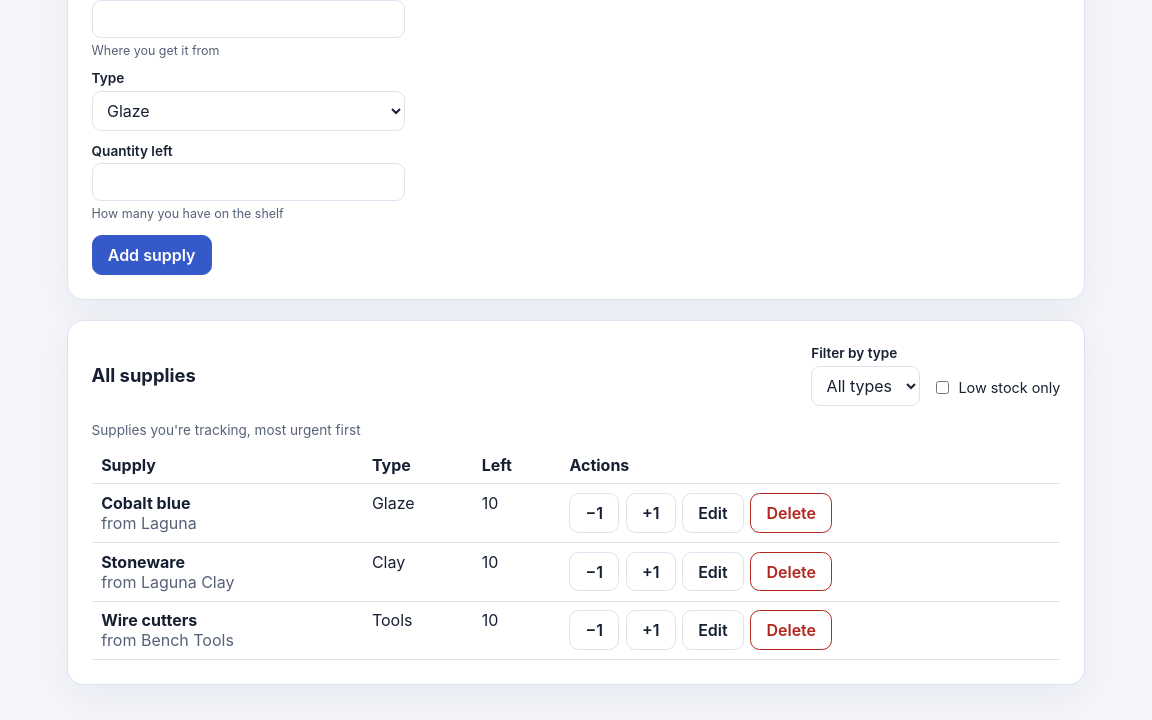
supply register › narrows the list to one type at a time
(page scrolled)
Select "Clay" in the dropdown labelled "Filter by type" at (866, 386), box top-left (811, 366), bottom-right (920, 406)
(page scrolled)
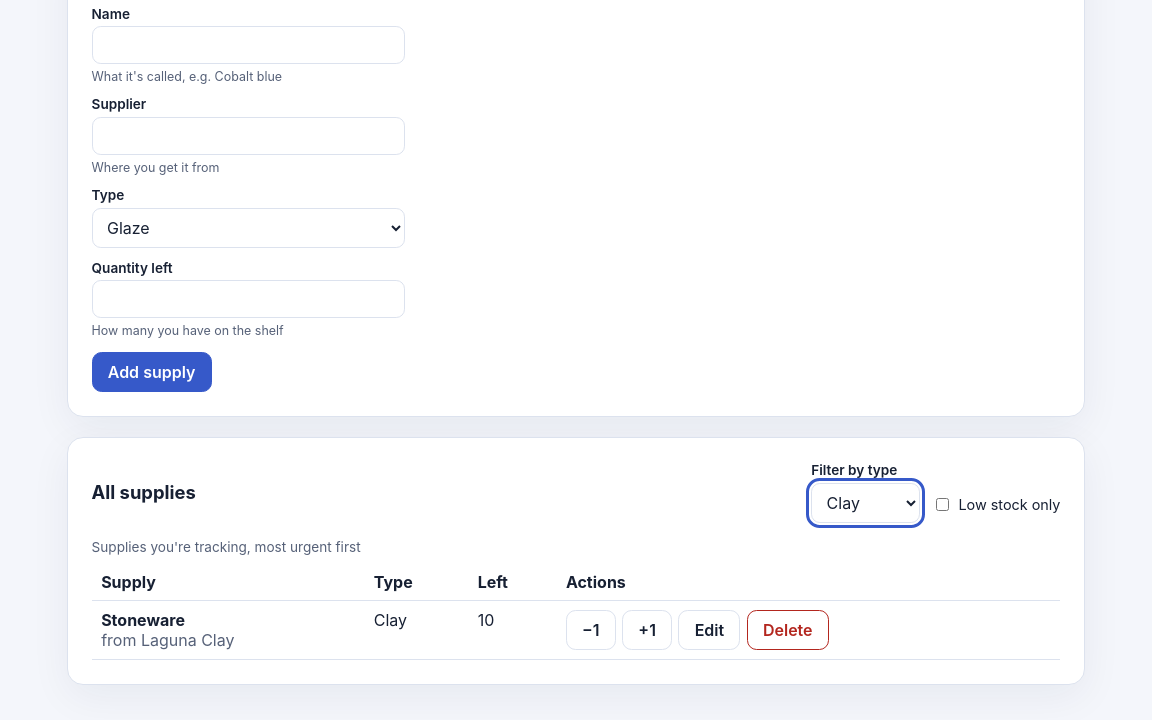
Expected: the text "Stoneware" is shown, top-left (101, 610), bottom-right (185, 630)
Expected: the text "Wire cutters" is gone
Select "All types" in the dropdown labelled "Filter by type" at (866, 503), box top-left (811, 483), bottom-right (920, 523)
(page scrolled)
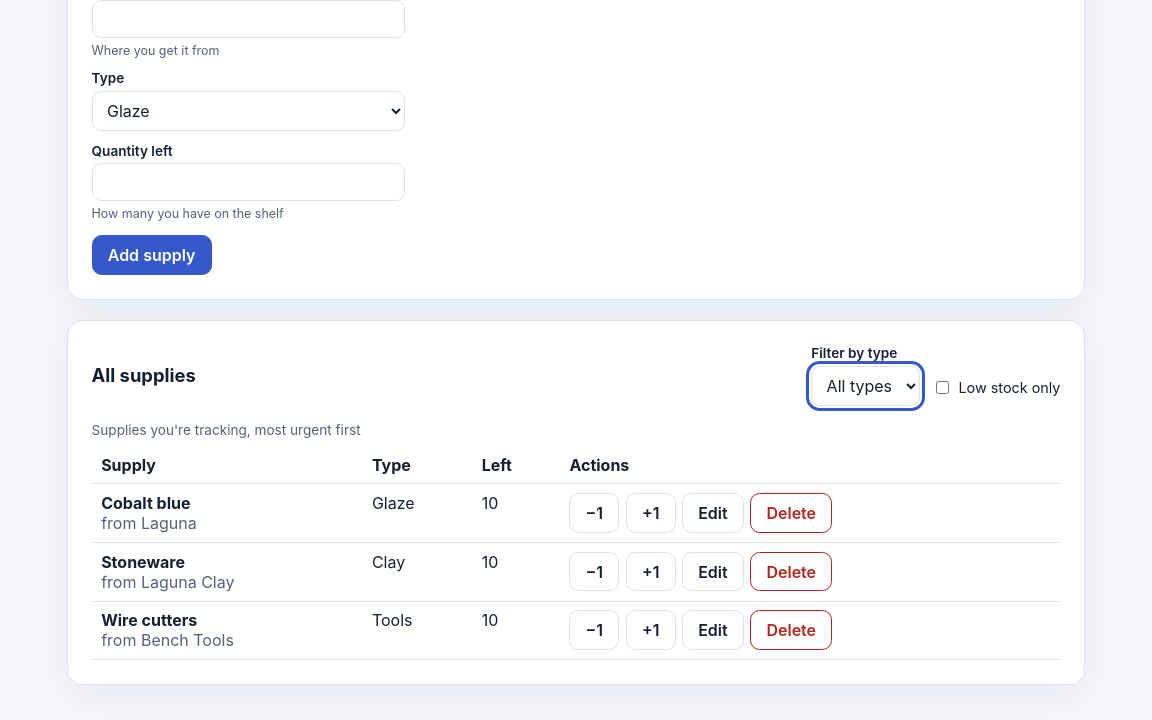
Expected: the table is shown, top-left (92, 422), bottom-right (1060, 660)
Expected: the text "Cobalt blue" is shown once, top-left (101, 493), bottom-right (190, 513)
